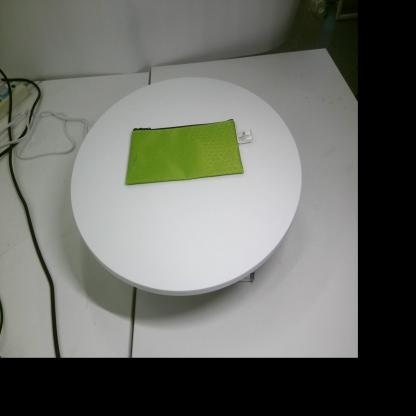Stationery: (126, 119, 253, 185)
